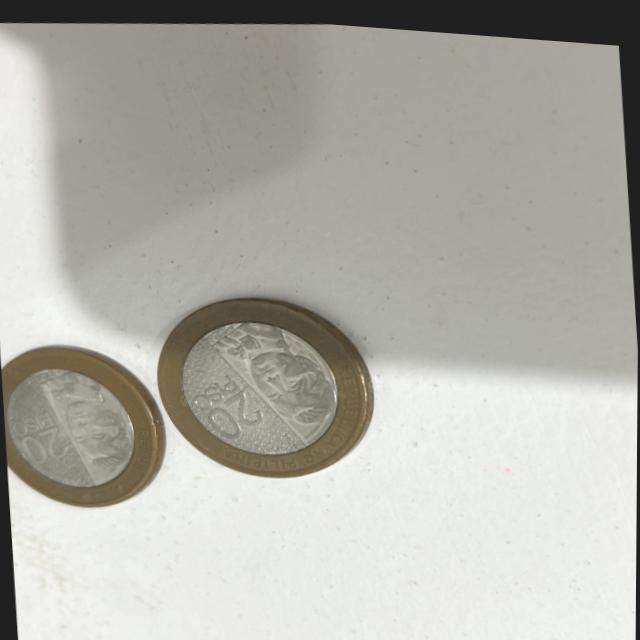20_New_Front: (182, 362, 269, 444), (3, 402, 81, 471)
